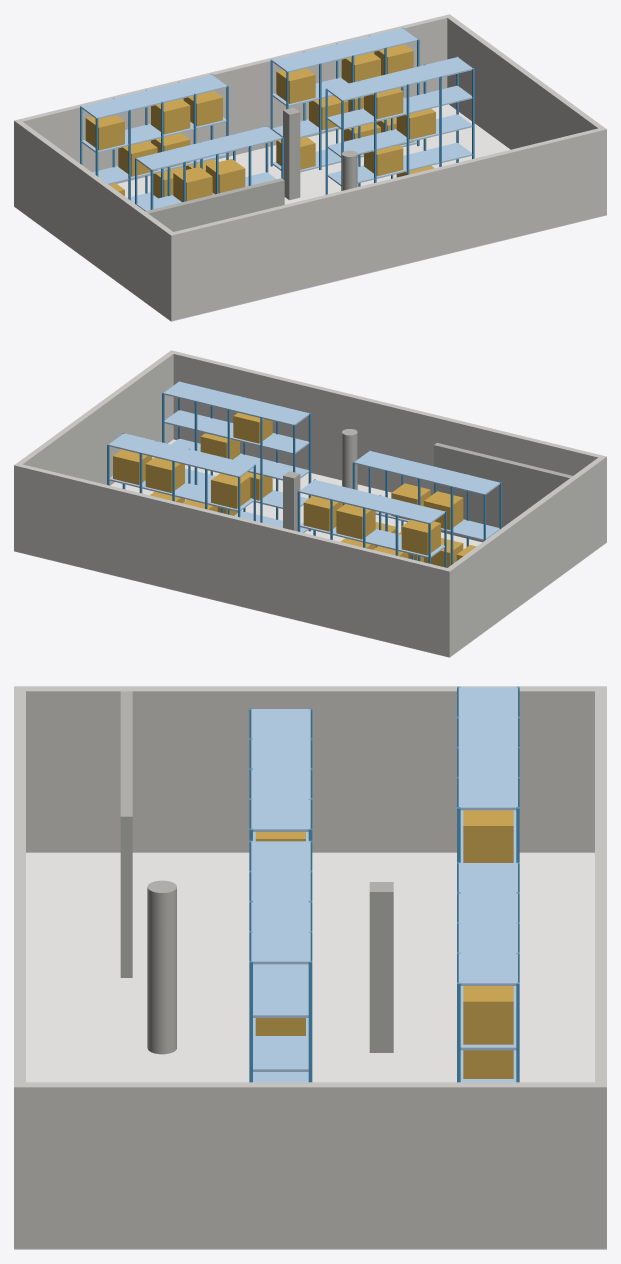
The model's file is 02-kho-co-hang-va-cot.glb.
3 views of the same model, one above another, from view 1: azimuth 30°, elevation 25°; view 2: azimuth 150°, elevation 25°; view 3: azimuth 270°, elevation 25° (orthographic). The views are drawn at different scales.
Size of the model in its own units: 16 by 4.14 by 10.
